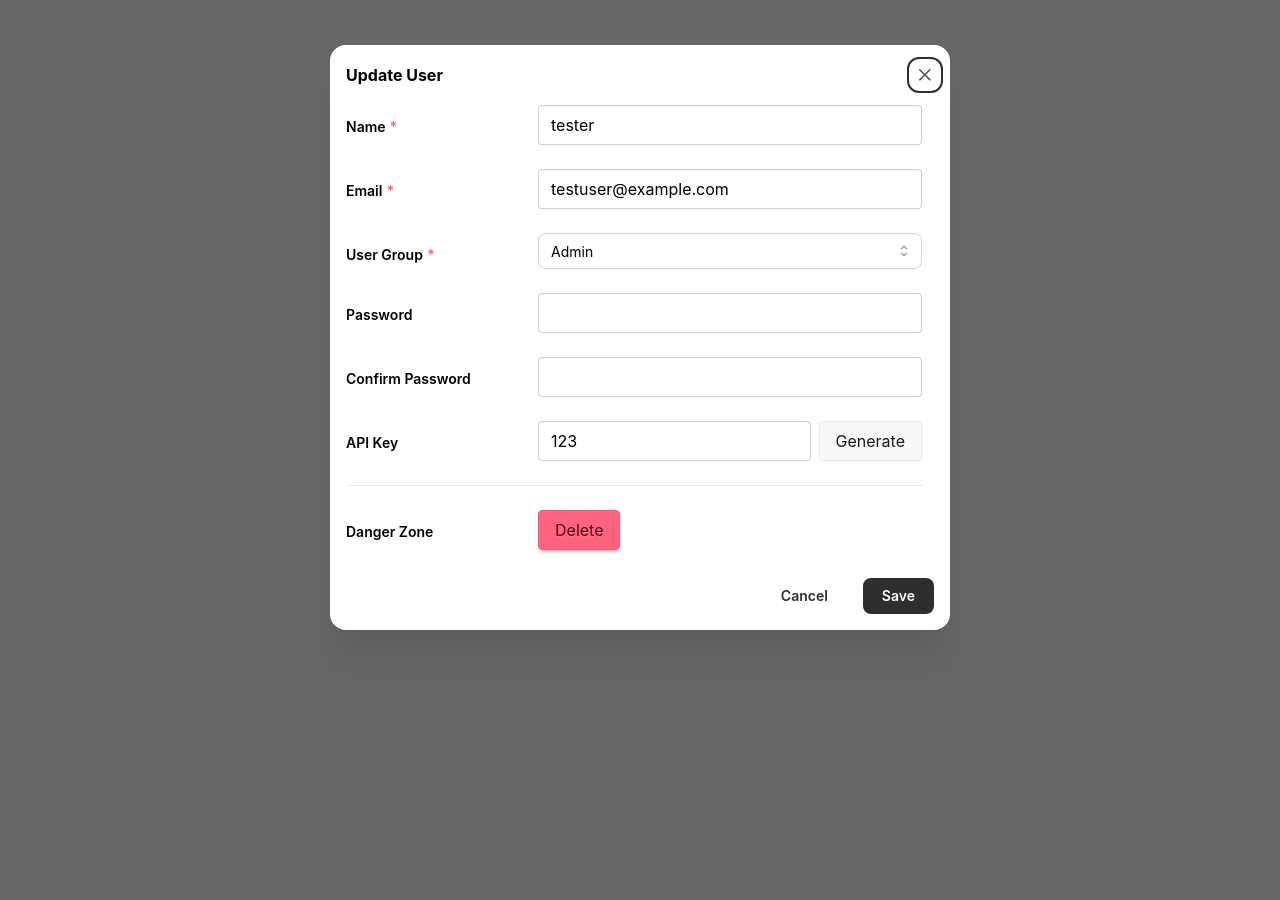
Test: UpdateUserDialog › should generate a random API Key
The image size is (1280, 900).
What coordinates should you click on to do the following:
click the button with aria-label "generate api key"
I would click on:
 (870, 441)
Its box is [818, 421, 922, 461].
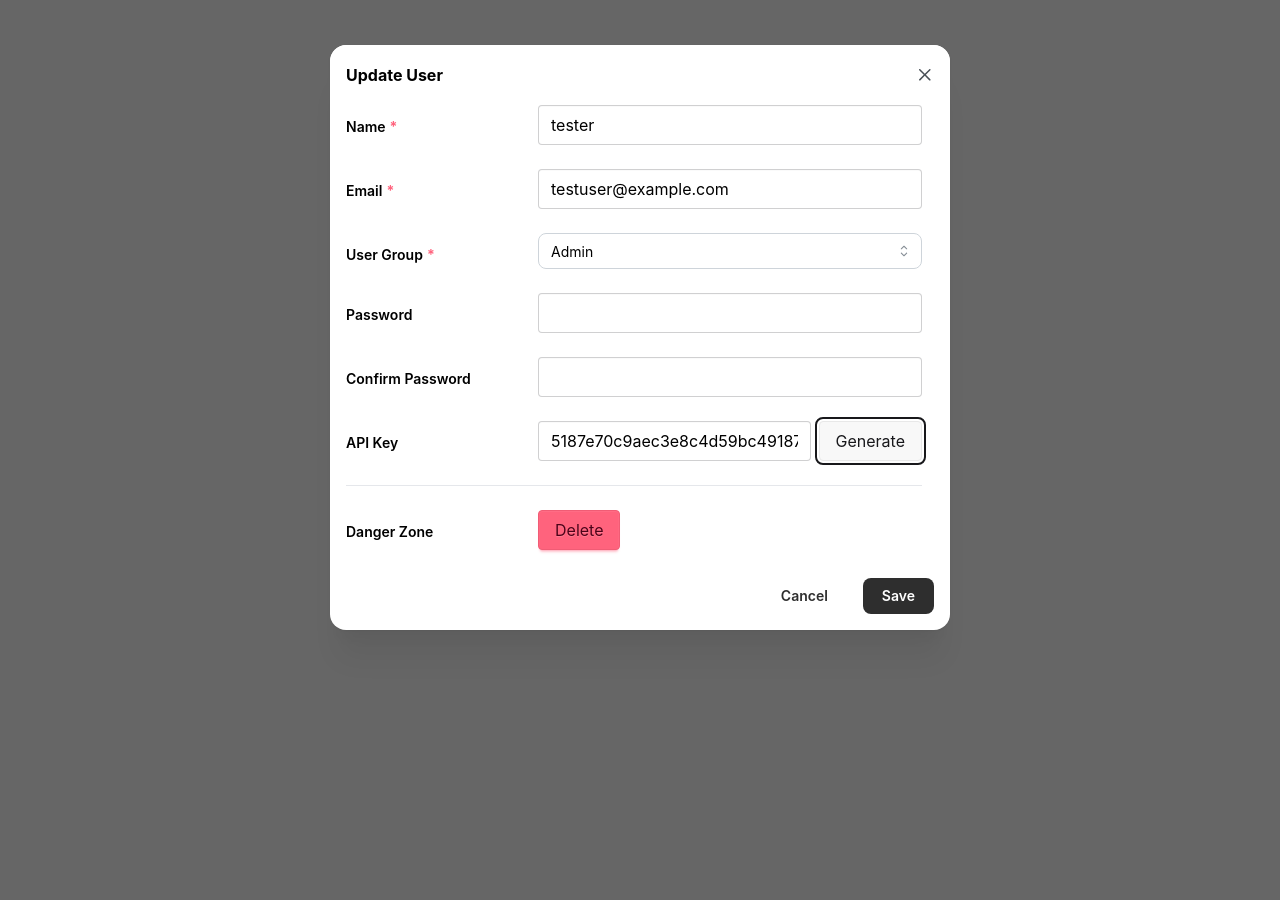
Now the field labelled "API Key" is not empty, box [538, 421, 810, 461]
